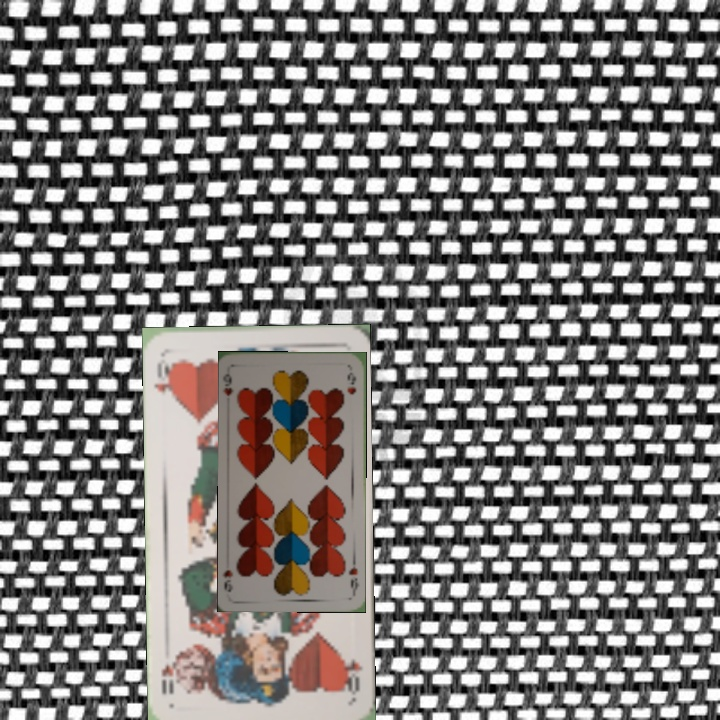H9: (345, 555, 361, 596), (221, 370, 236, 398)
HO: (149, 355, 177, 405), (339, 654, 365, 698)
